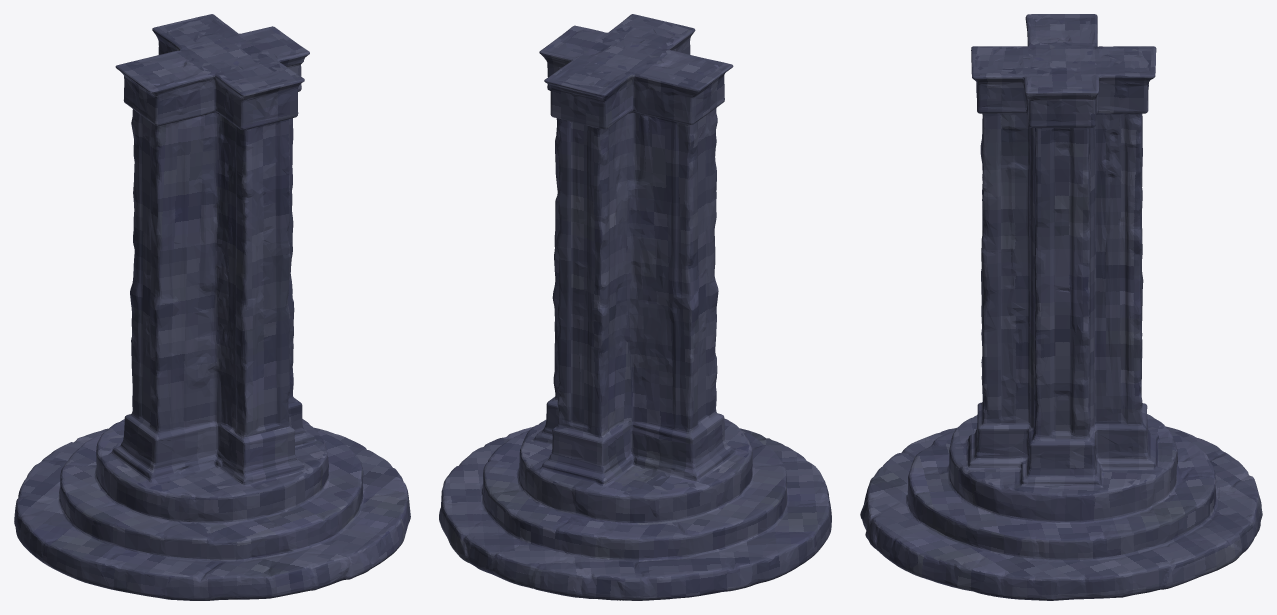
Rendered from weathered-monolith-pillar-generated-2026-04-19T23-24-06-758Z.medium.glb.
3 views of the same model, side by side, from view 1: azimuth 30°, elevation 25°; view 2: azimuth 150°, elevation 25°; view 3: azimuth 270°, elevation 25° (orthographic).
Parts seen in each view (by area): view 1: temp_mesh.ply; view 2: temp_mesh.ply; view 3: temp_mesh.ply.
Boxes of the visible parts, <box> form: temp_mesh.ply: <box>14,14,410,600</box>; temp_mesh.ply: <box>439,14,831,600</box>; temp_mesh.ply: <box>860,14,1262,600</box>.
Bounding box in the file's own units: 1.54 × 1.97 × 1.54.
Materials: 1 (1 with a texture image).
